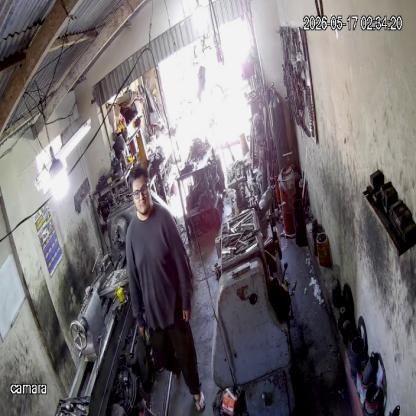lentes: (132, 182, 149, 198)
